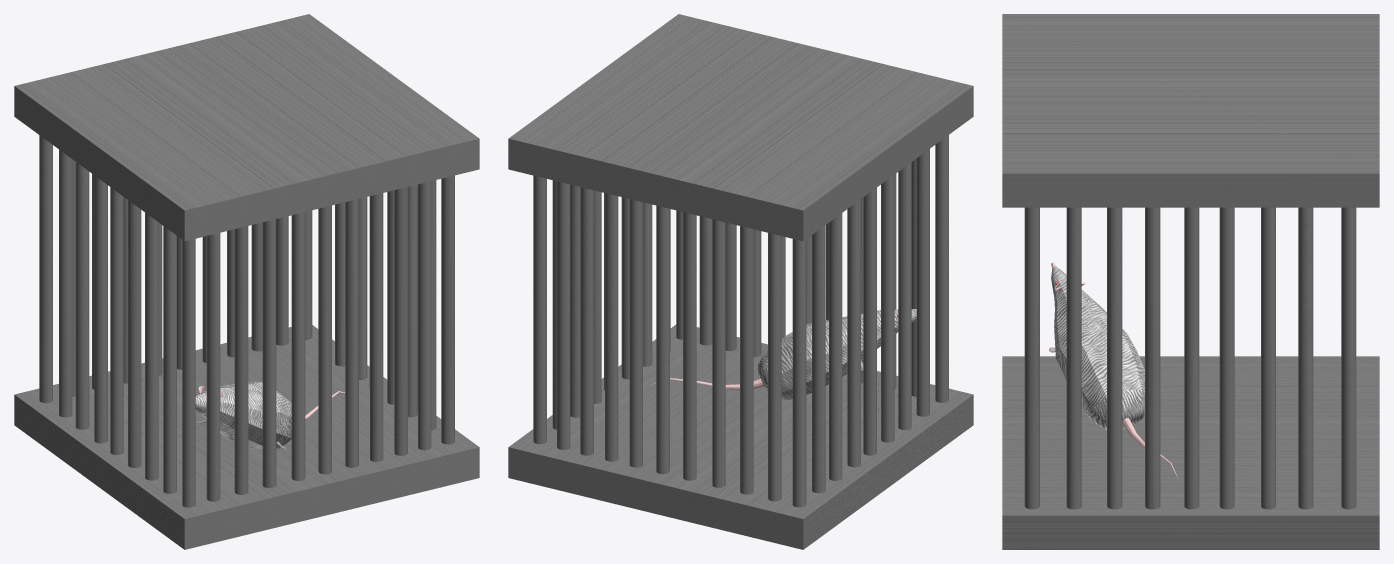
File: cagedRat2.fbx
The picture shows the model from 3 angles, left to right: view 1: azimuth 30°, elevation 25°; view 2: azimuth 150°, elevation 25°; view 3: azimuth 270°, elevation 25°; orthographic projection. The views are drawn at different scales.
Visible parts, largest first — view 1: pCube3, labRat:polySurface12; view 2: pCube3, labRat:polySurface12; view 3: pCube3, labRat:polySurface12.
Part boxes in pixels (x1,y1,x2,y2): pCube3: (14,14,479,549); labRat:polySurface12: (195,382,345,448); pCube3: (508,14,973,549); labRat:polySurface12: (650,309,916,399); pCube3: (1002,14,1379,549); labRat:polySurface12: (1049,262,1178,479).
Bounding box in the file's own units: 50 × 55 × 50.
